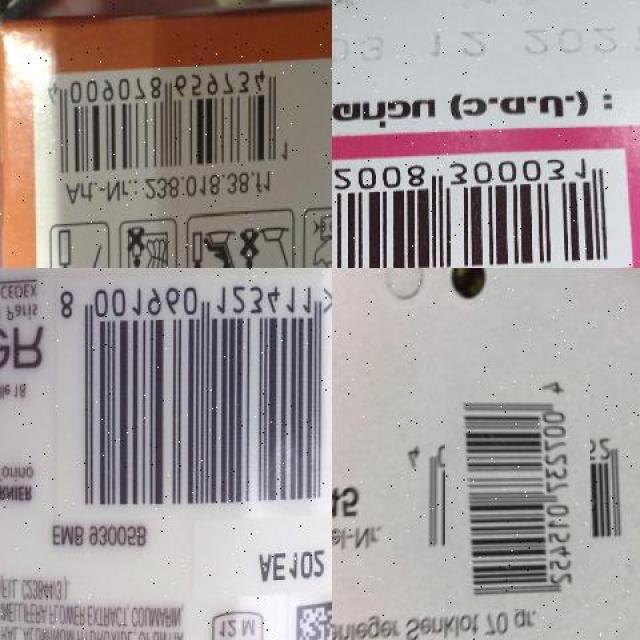Barcode: (57, 278, 332, 522), (44, 68, 299, 216), (422, 397, 613, 587), (332, 153, 633, 268)
